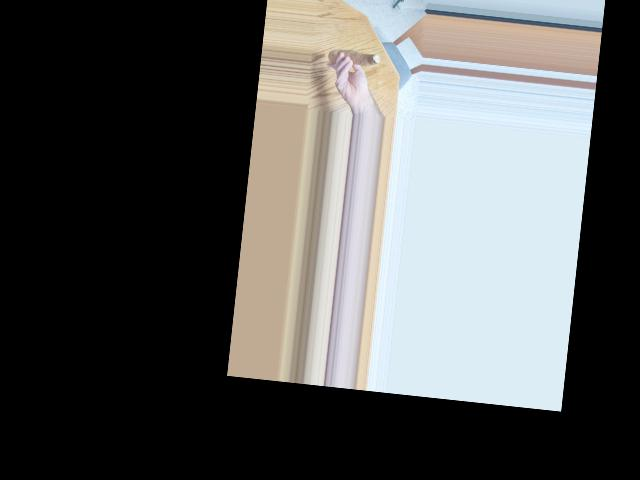sweet_potato: (330, 43, 377, 70)
